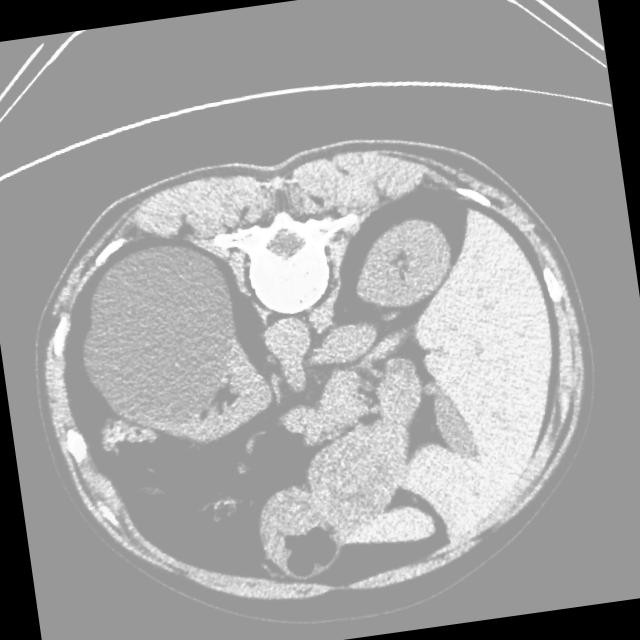cysts: (16, 114, 620, 640)
